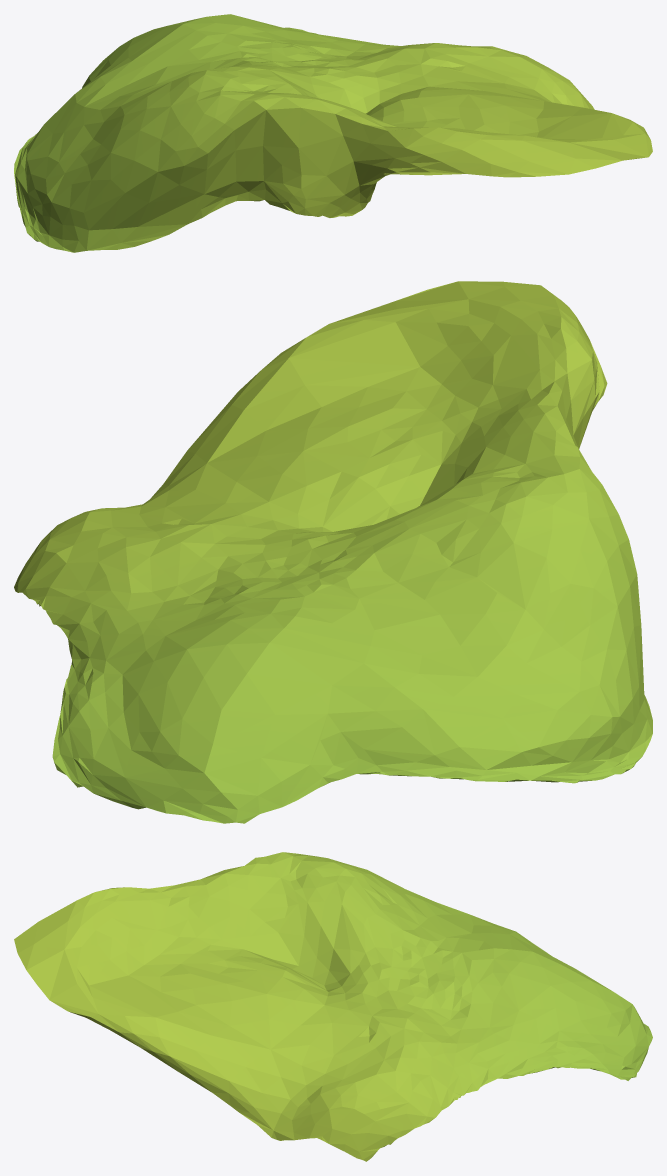
File: hill_002.glb
The picture shows the model from 3 angles, top to bottom: view 1: azimuth 30°, elevation 25°; view 2: azimuth 150°, elevation 25°; view 3: azimuth 270°, elevation 25°; orthographic projection. The views are drawn at different scales.
Visible parts, largest first — view 1: hill_002; view 2: hill_002; view 3: hill_002.
Boxes of the visible parts, bbox=[...] form: hill_002: bbox=[14, 14, 652, 252]; hill_002: bbox=[14, 281, 652, 823]; hill_002: bbox=[14, 852, 652, 1161].
Bounding box in the file's own units: 99.02 × 32.89 × 122.
1 material, 1 textured.
